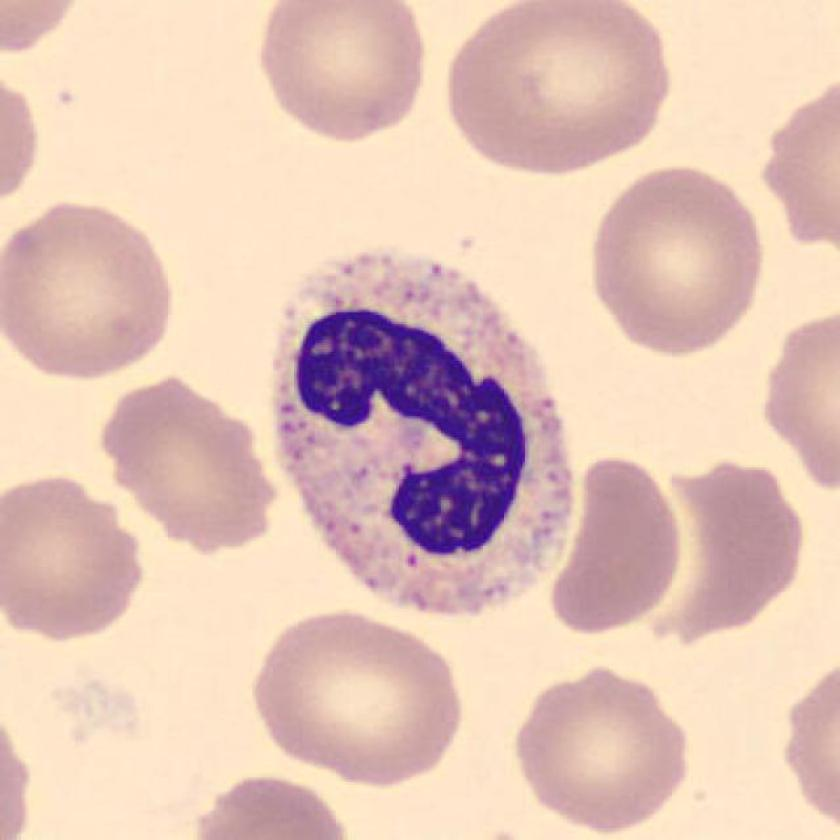neutrophil: (274, 252, 577, 614)
